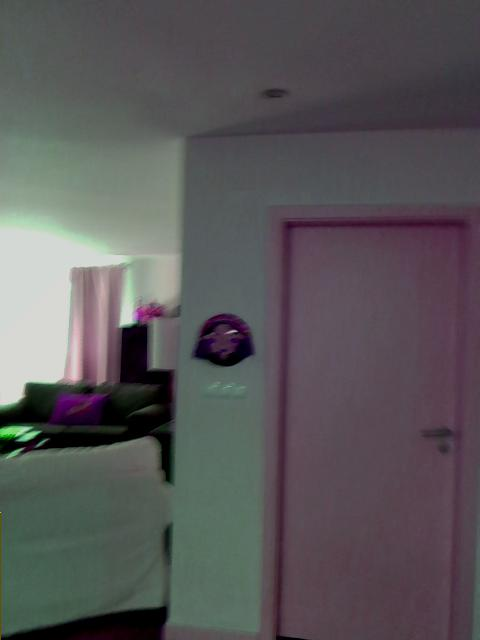closed_door: (259, 202, 479, 639)
